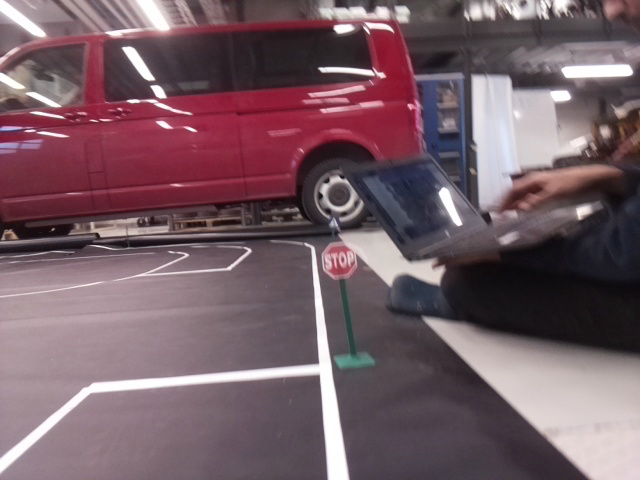Stop: (321, 244, 356, 277)
